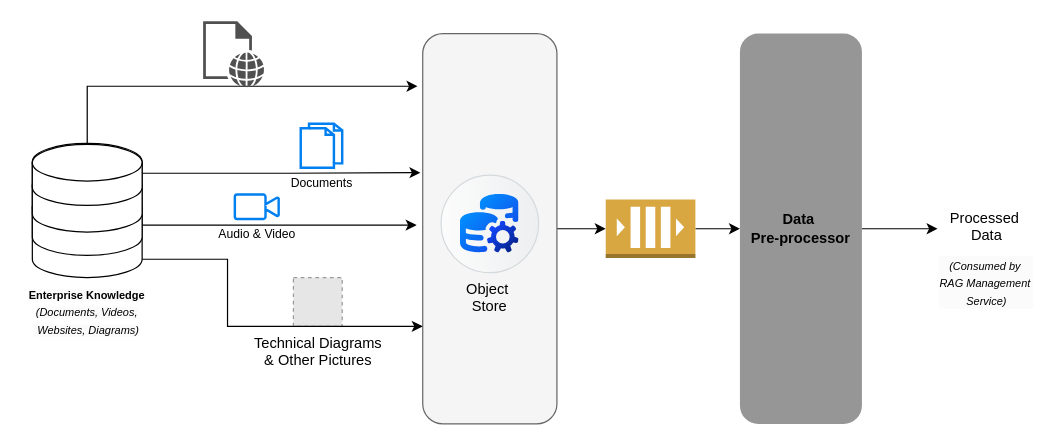
Some shapes in this 1055 by 445 pixel diagram are drawn without their labels. Grey dashed boxes stand in for pictures. Here are the shapes that lost their labels. From the top down, the centre of each, then its label:
pixel 233 54: Wiki & Web Pages
pixel 650 228: Data Processing Queue
